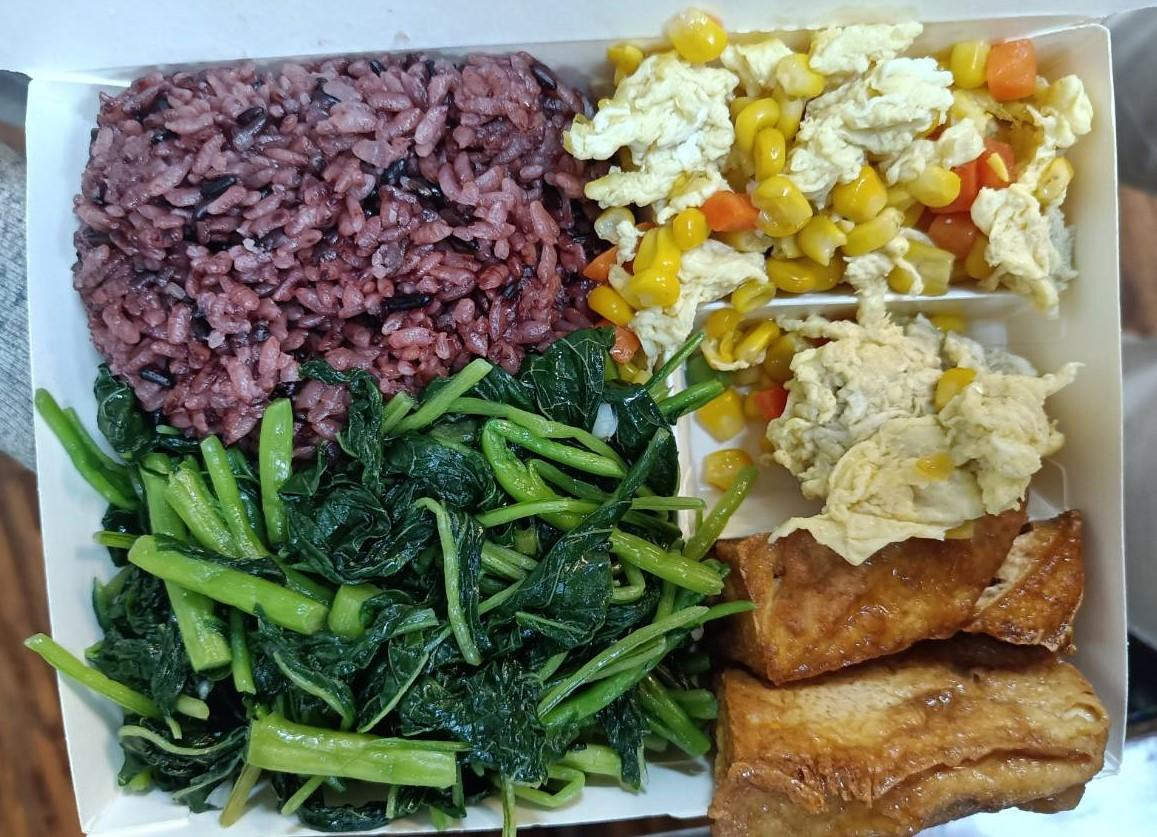big grilled chicken leg: (0, 18, 1157, 837)
braised fish: (72, 50, 600, 430)
braised fish fillet: (64, 380, 706, 825), (573, 34, 1098, 537), (707, 516, 1102, 837)
